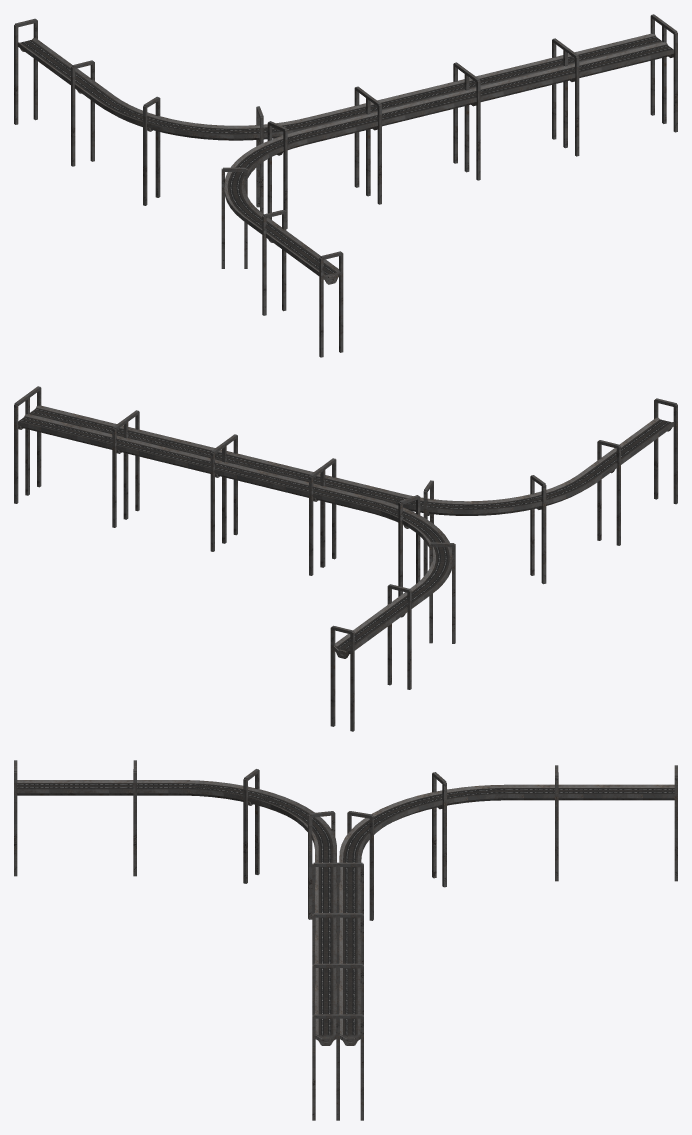
File: Road_decals_test.fbx
3 views of the same model, one above another, from view 1: azimuth 30°, elevation 25°; view 2: azimuth 150°, elevation 25°; view 3: azimuth 270°, elevation 25° (orthographic). The views are drawn at different scales.
Visible parts, largest first — view 1: Vert.018; view 2: Vert.018; view 3: Vert.018.
Part boxes in pixels (x1,y1,x2,y2): Vert.018: [14, 14, 677, 357]; Vert.018: [14, 386, 677, 731]; Vert.018: [14, 760, 677, 1120].
Bounding box in the file's own units: 514 × 98.48 × 565.
